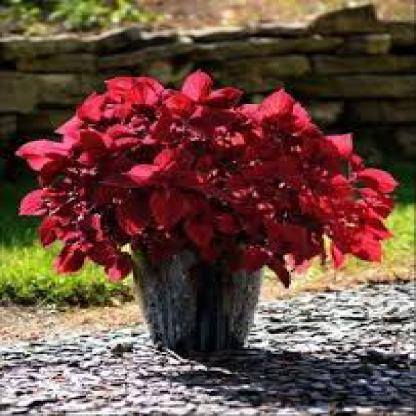Bunga Coleus: (26, 68, 374, 261)
